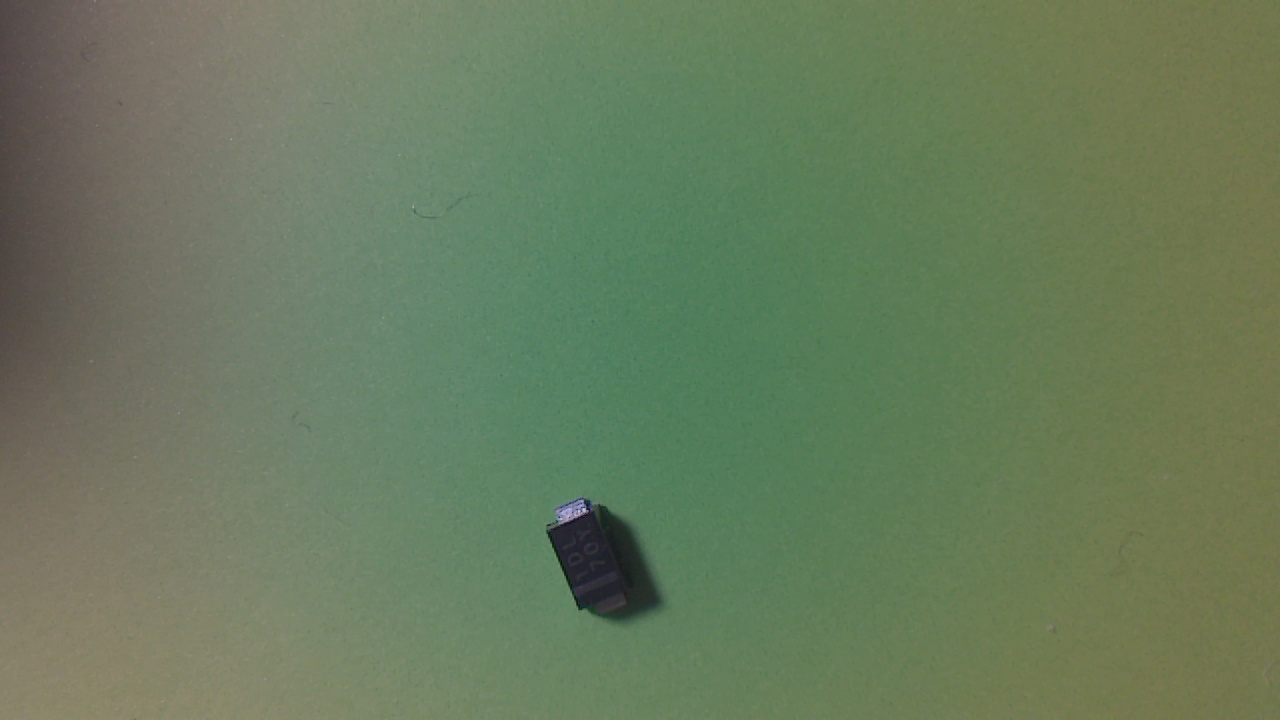Diode: (547, 498, 641, 625)
